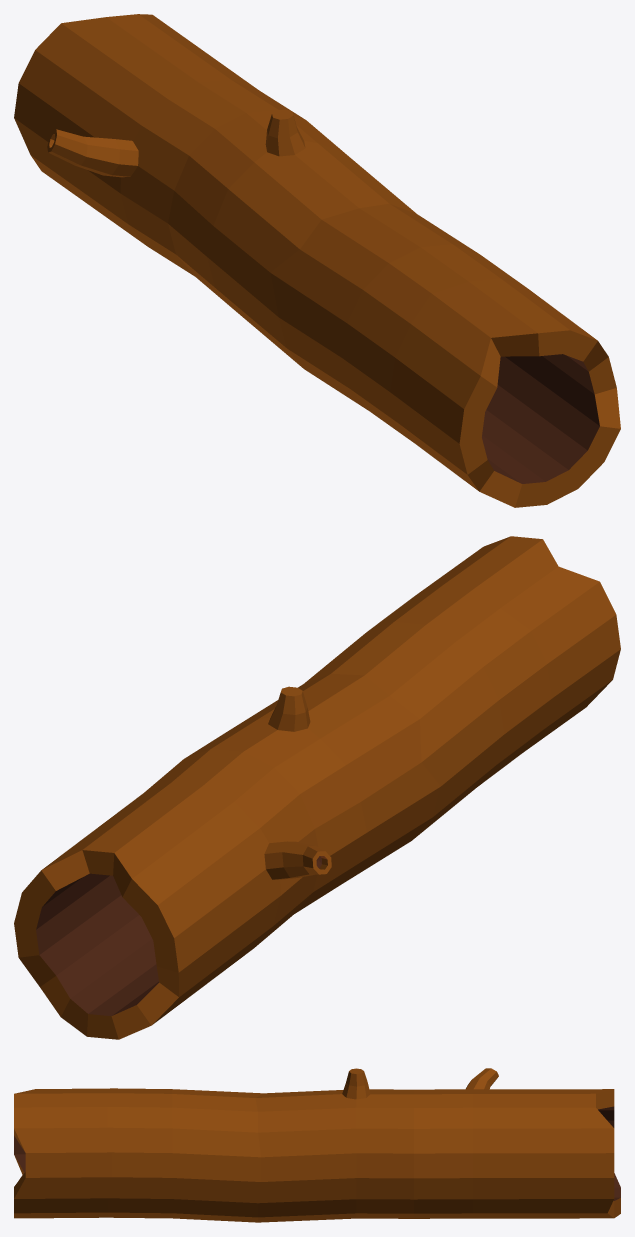
The model's file is log.glb.
The picture shows the model from 3 angles, top to bottom: view 1: azimuth 30°, elevation 25°; view 2: azimuth 150°, elevation 25°; view 3: azimuth 270°, elevation 25°; orthographic projection. The views are drawn at different scales.
Visible parts, largest first — view 1: log; view 2: log; view 3: log.
Part boxes in pixels (box(x1,y1,x2,y2)): log: box(14, 14, 620, 507); log: box(14, 536, 620, 1039); log: box(14, 1068, 620, 1222).
Size of the model in its own units: 2.52 by 2.24 by 8.57.
Materials: 1 (1 with a texture image).
